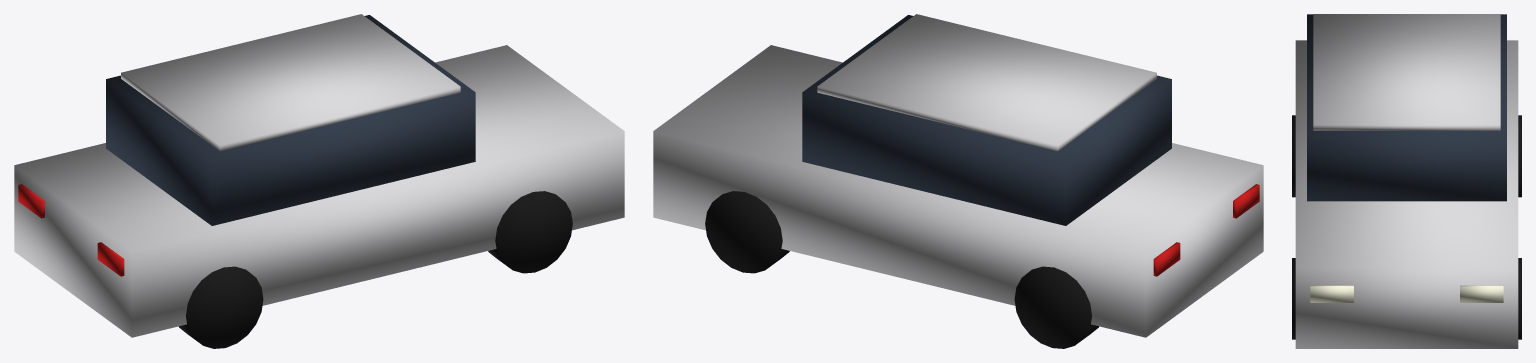
Rendered from traffic_car_white.dae.
The picture shows the model from 3 angles, left to right: view 1: azimuth 30°, elevation 25°; view 2: azimuth 150°, elevation 25°; view 3: azimuth 270°, elevation 25°; orthographic projection. The views are drawn at different scales.
Parts seen in each view (by area): view 1: node0, node1, node2, node3, node5, node8, node10; view 2: node0, node1, node2, node4, node6, node10, node8; view 3: node0, node2, node1, node7, node9, node3, node4, node5, node6.
Part boxes in pixels (bbox=[...]): node0: bbox=[14, 45, 624, 337]; node1: bbox=[106, 15, 475, 225]; node2: bbox=[121, 14, 460, 151]; node3: bbox=[178, 266, 263, 348]; node5: bbox=[488, 191, 572, 273]; node8: bbox=[97, 242, 124, 276]; node10: bbox=[18, 184, 44, 218]; node0: bbox=[653, 45, 1263, 337]; node1: bbox=[802, 15, 1171, 225]; node2: bbox=[817, 14, 1156, 151]; node4: bbox=[1014, 266, 1099, 348]; node6: bbox=[705, 191, 789, 273]; node10: bbox=[1153, 242, 1180, 276]; node8: bbox=[1233, 184, 1259, 218]; node0: bbox=[1295, 40, 1518, 348]; node2: bbox=[1313, 14, 1500, 130]; node1: bbox=[1307, 14, 1506, 201]; node7: bbox=[1310, 285, 1353, 302]; node9: bbox=[1460, 285, 1503, 302]; node3: bbox=[1292, 115, 1295, 197]; node4: bbox=[1518, 115, 1521, 197]; node5: bbox=[1292, 258, 1295, 339]; node6: bbox=[1518, 258, 1521, 339].
Size of the model in its own units: 4.36 by 1.84 by 1.61.
